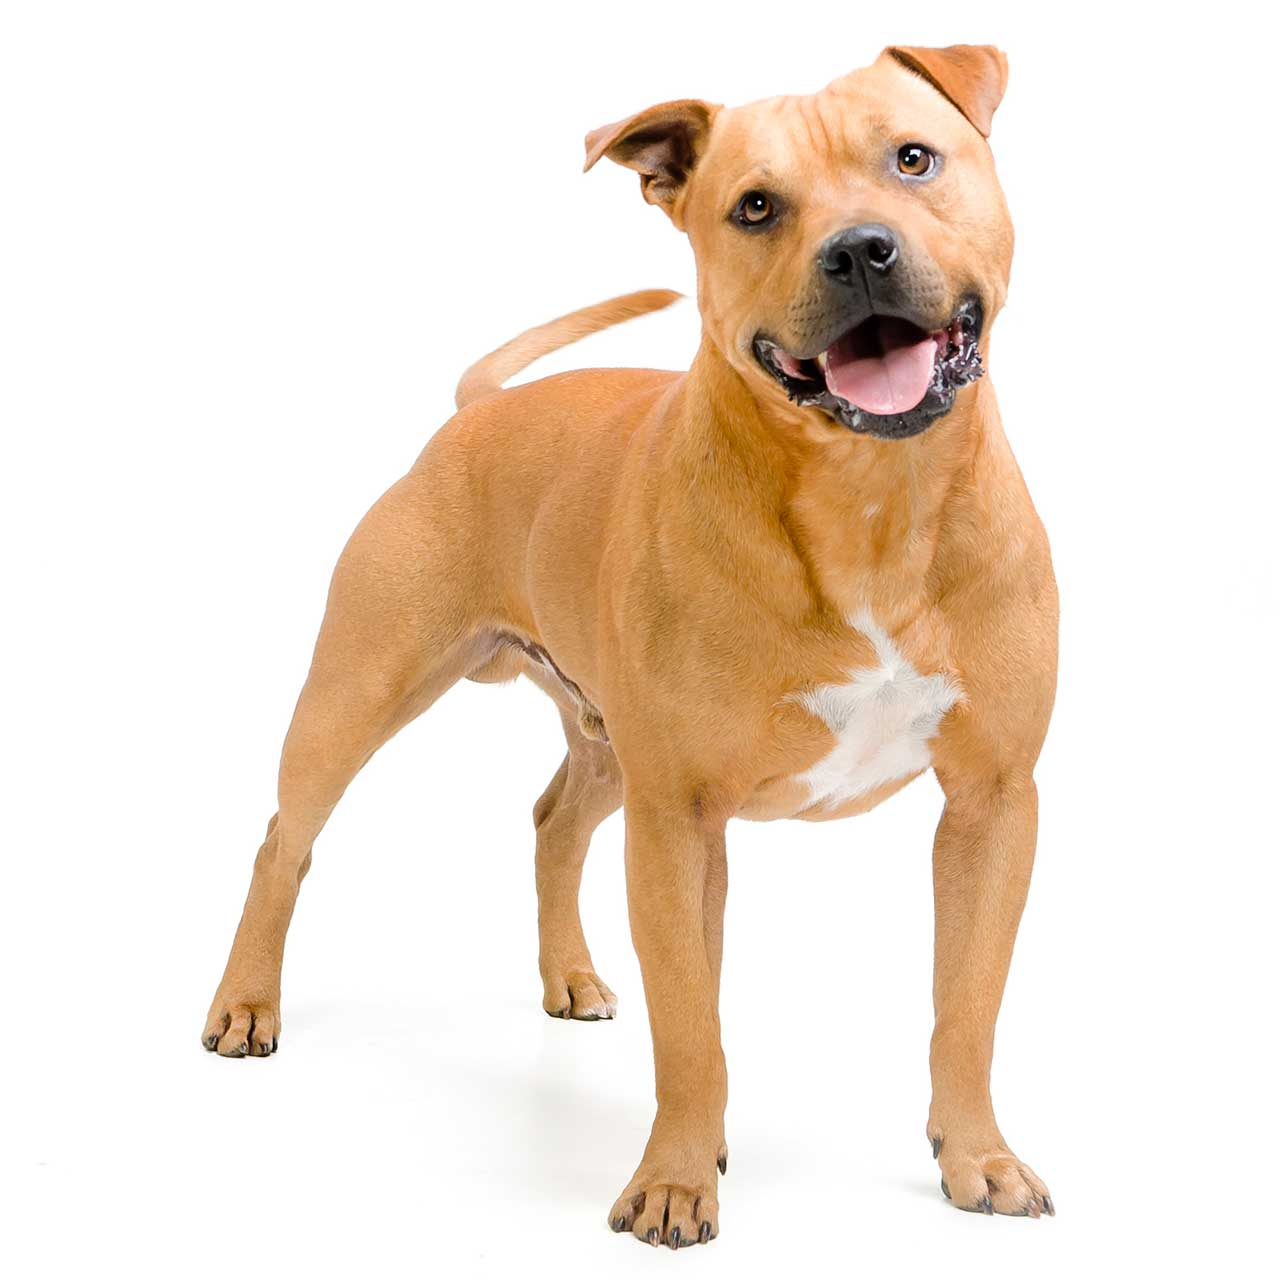am_pit_bull_terrier: (200, 40, 1060, 1248)
